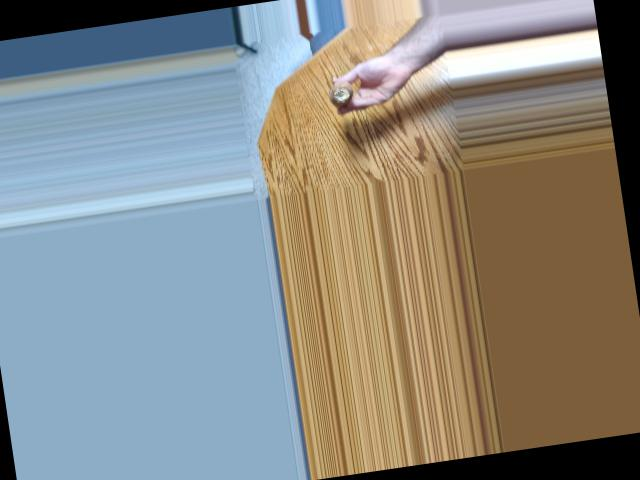sweet_potato: (321, 77, 354, 105)
